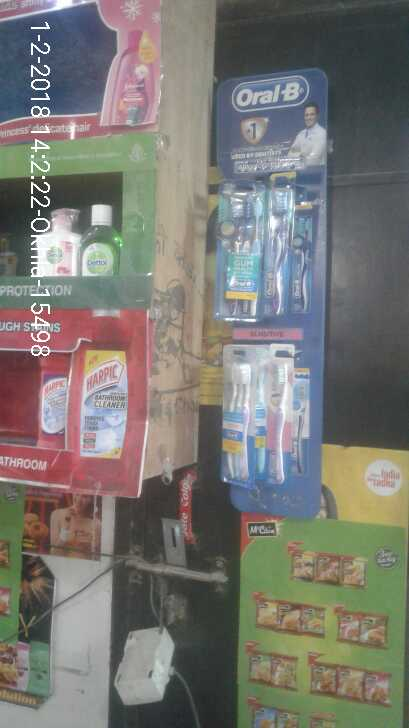oralb: (218, 179, 260, 322), (265, 191, 313, 311)
